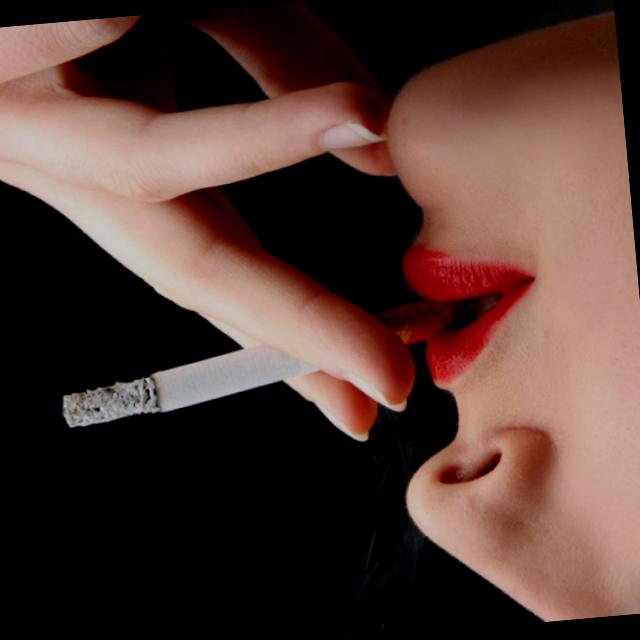cigarette: (51, 343, 281, 438)
